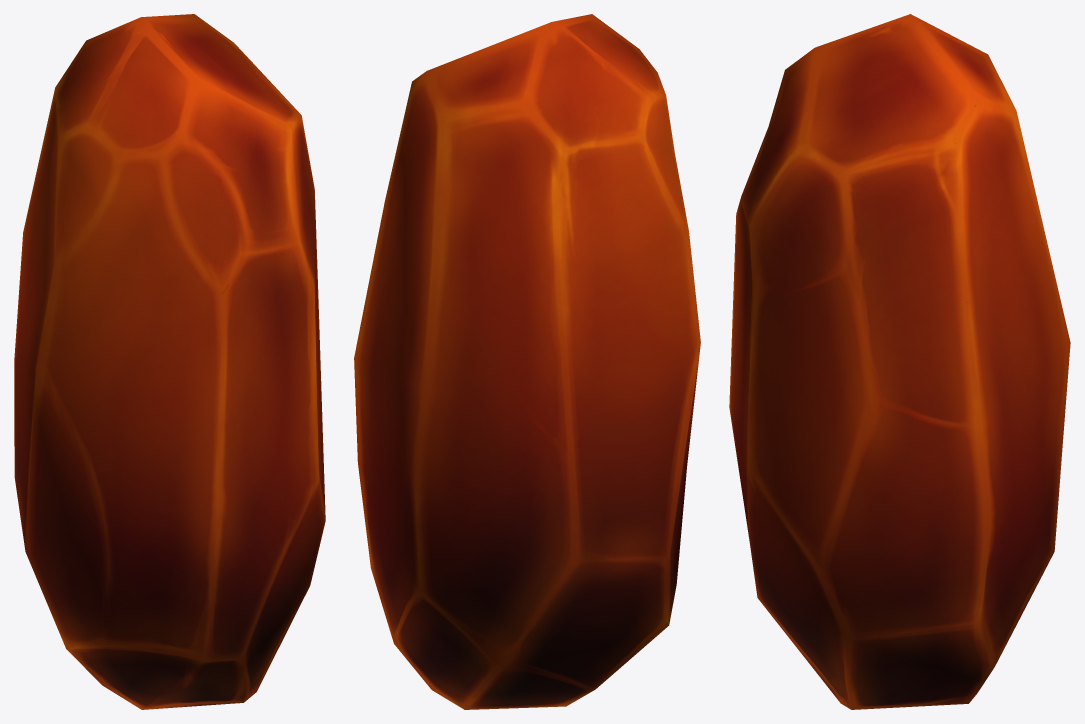
The model's file is Krystall.FBX.
The picture shows the model from 3 angles, left to right: view 1: azimuth 30°, elevation 25°; view 2: azimuth 150°, elevation 25°; view 3: azimuth 270°, elevation 25°; orthographic projection. The views are drawn at different scales.
Visible parts, largest first — view 1: RetopoGroup1; view 2: RetopoGroup1; view 3: RetopoGroup1.
Part boxes in pixels (x1,y1,x2,y2): RetopoGroup1: (14,14,325,709); RetopoGroup1: (354,14,700,709); RetopoGroup1: (729,14,1070,709).
Bounding box in the file's own units: 34.58 × 78.68 × 36.47.
